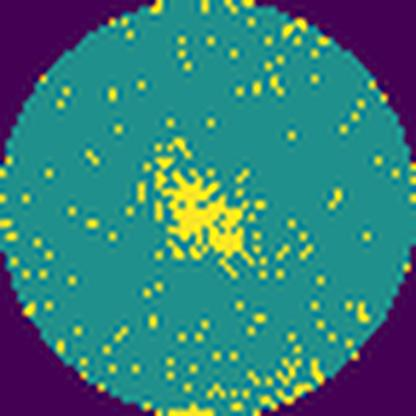Center: (150, 151, 256, 262)
